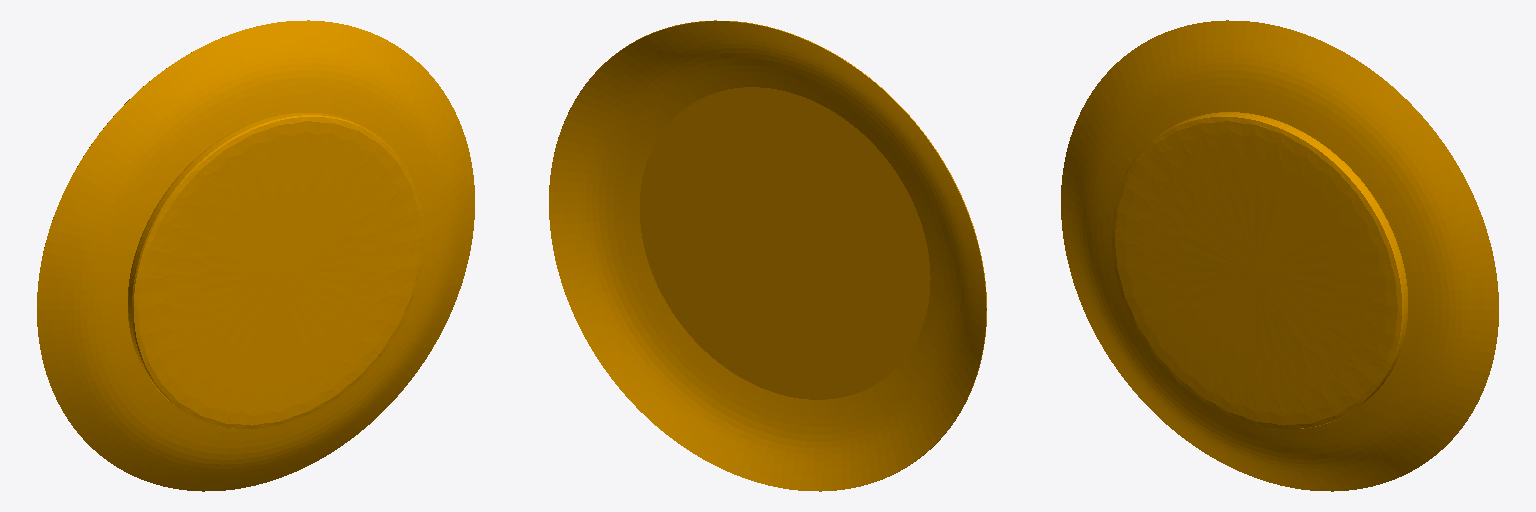
URDF robot description (cube):
<?xml version="1.0"?>
<robot name="cube">
  <!-- Frying pan model, Copyright (c) 2016 [author]       -->
  <!-- LICENSE: CC-SA                                         -->
  <link name="cube">
    <visual>
      <origin rpy="0 0 0" xyz="0 0 0"/>
      <geometry>
        <mesh filename="plate.obj"/>
      </geometry>
    </visual>

    <collision>  <!-- bottom -->
      <geometry>
        <cylinder radius="0.05" length="0.005"/>
      </geometry>
      <origin rpy="0 0 0" xyz="0 0 0.0025"/>
    </collision>

    <collision>
      <geometry>
        <mesh filename="plate-collision01.obj"/>
      </geometry>
      <origin rpy="0 0 0" xyz="0 0 0"/>
    </collision>

    <collision>
      <geometry>
        <mesh filename="plate-collision02.obj"/>
      </geometry>
      <origin rpy="0 0 0" xyz="0 0 0"/>
    </collision>

    <collision>
      <geometry>
        <mesh filename="plate-collision03.obj"/>
      </geometry>
      <origin rpy="0 0 0" xyz="0 0 0"/>
    </collision>

    <collision>
      <geometry>
        <mesh filename="plate-collision04.obj"/>
      </geometry>
      <origin rpy="0 0 0" xyz="0 0 0"/>
    </collision>

    <collision>
      <geometry>
        <mesh filename="plate-collision05.obj"/>
      </geometry>
      <origin rpy="0 0 0" xyz="0 0 0"/>
    </collision>

    <collision>
      <geometry>
        <mesh filename="plate-collision06.obj"/>
      </geometry>
      <origin rpy="0 0 0" xyz="0 0 0"/>
    </collision>

    <inertial>
      <mass value="0.5"/>  <!-- mr^2 = 0.5*0.12^2 = 0.0072 for Z axis, lighter along other axis -->
      <inertia ixx="0.005" iyy="0.005" izz="0.0072"/>
      <contact_coefficients mu="100" kp="0.9" kd="0.9"/>
    </inertial>
  </link>

</robot>

--- Facts derived from the render (not from the file) ---
The picture shows the robot from 3 angles, left to right: view 1: azimuth 30°, elevation 25°; view 2: azimuth 150°, elevation 25°; view 3: azimuth 330°, elevation 25°; orthographic projection.
Model cube with 1 links and 0 joints (none), rooted at cube, posed all joints at 0.
Links seen in each view (by area): view 1: cube; view 2: cube; view 3: cube.
Boxes of the visible links, x1,y1,x2,y2 form: cube: [37, 20, 474, 491]; cube: [549, 20, 986, 491]; cube: [1061, 20, 1498, 491].
Bounding box of the posed robot: 9.45 × 0.9328 × 9.45 m (x, y, z).
1 mesh visuals loaded from 1 distinct referenced files (1 OBJ).